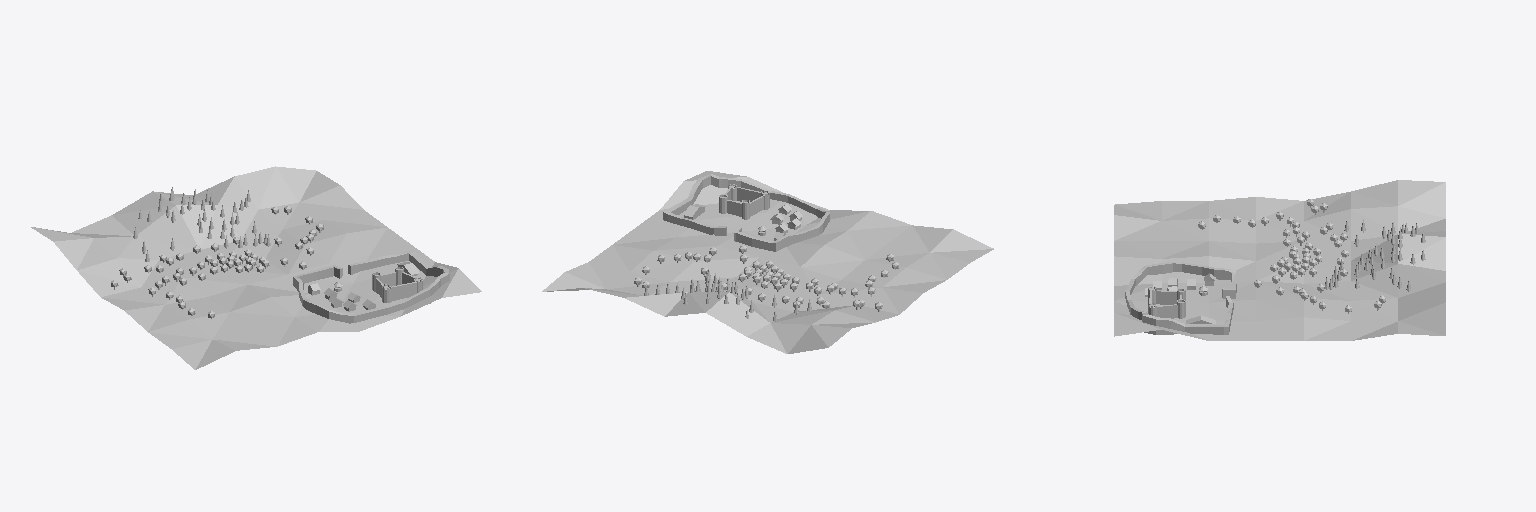
The model's file is castle_city.obj.
3 views of the same model, side by side, from view 1: azimuth 30°, elevation 25°; view 2: azimuth 150°, elevation 25°; view 3: azimuth 270°, elevation 25° (orthographic).
Visible parts, largest first — view 1: Plane, Cube, Cylinder.002; view 2: Plane, Cube, Cylinder.002; view 3: Plane, Cube, Cylinder.002.
Part boxes in pixels (x1,y1,x2,y2): Plane: (31,166,481,369); Cube: (293,250,449,323); Cylinder.002: (372,267,422,302); Plane: (542,171,993,353); Cube: (663,174,829,251); Cylinder.002: (719,184,769,219); Plane: (1114,180,1445,340); Cube: (1125,262,1236,334); Cylinder.002: (1148,286,1185,318).
Bounding box in the file's own units: 72.8 × 11.19 × 72.8.